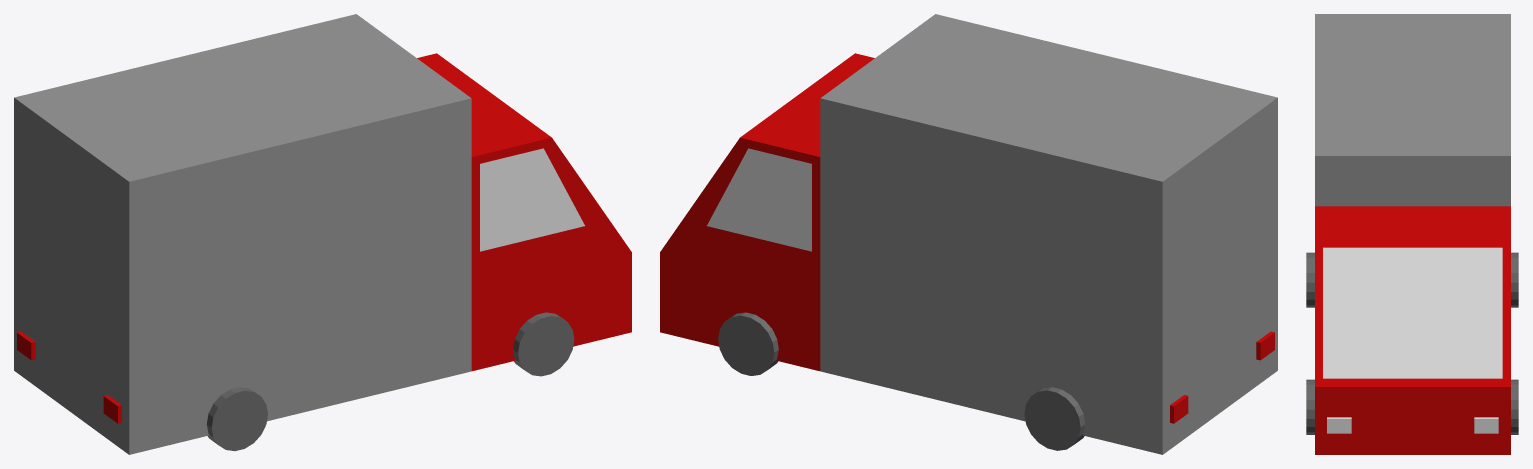
The model's file is Red Truck.fbx.
3 renders of one model, left to right at view 1: azimuth 30°, elevation 25°; view 2: azimuth 150°, elevation 25°; view 3: azimuth 270°, elevation 25°, orthographic. The views are drawn at different scales.
Parts seen in each view (by area): view 1: Truck; view 2: Truck; view 3: Truck.
Part boxes in pixels (left/top/right/bottom): Truck: left=14, top=14, right=631, bottom=454; Truck: left=660, top=14, right=1277, bottom=454; Truck: left=1306, top=14, right=1518, bottom=454.
Bounding box in the file's own units: 12272 × 6663 × 5185.
